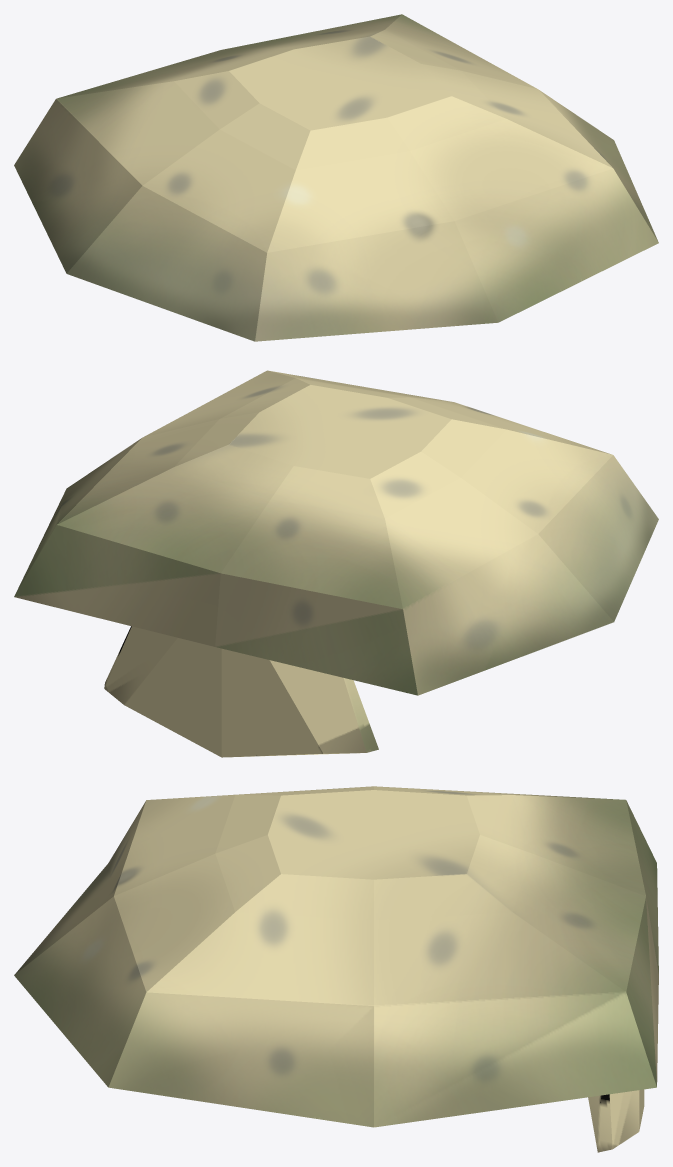
File: Mushroom-1.fbx
The picture shows the model from 3 angles, top to bottom: view 1: azimuth 30°, elevation 25°; view 2: azimuth 150°, elevation 25°; view 3: azimuth 270°, elevation 25°; orthographic projection. The views are drawn at different scales.
Parts seen in each view (by area): view 1: Mushroom-1; view 2: Mushroom-1; view 3: Mushroom-1.
Part boxes in pixels (box(x1,y1,x2,y2)): Mushroom-1: box(14, 14, 658, 341); Mushroom-1: box(14, 370, 658, 757); Mushroom-1: box(14, 786, 658, 1152).
Size of the model in its own units: 15.35 by 6.39 by 13.75.
